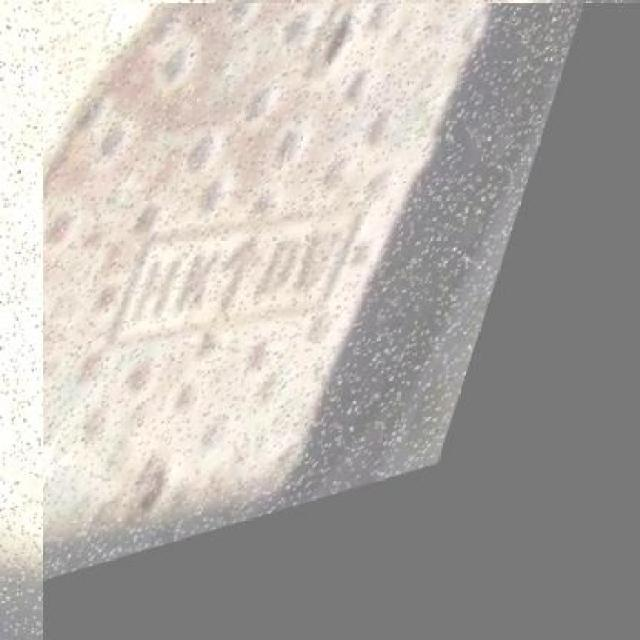Manhole: (43, 3, 640, 640)
